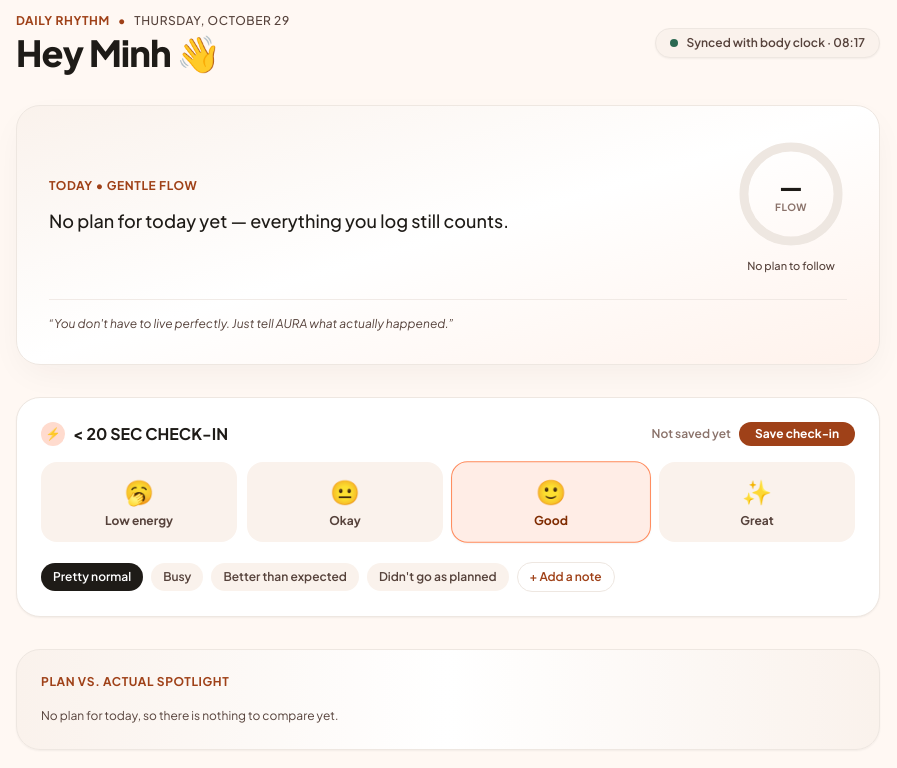
Test: Check-in card › saves the chosen mood, tag and note, then reloads the day
The width and height of the screenshot is (897, 768).
Click the button "🥱 Low energy".
click(139, 502)  # box [41,462,237,542]
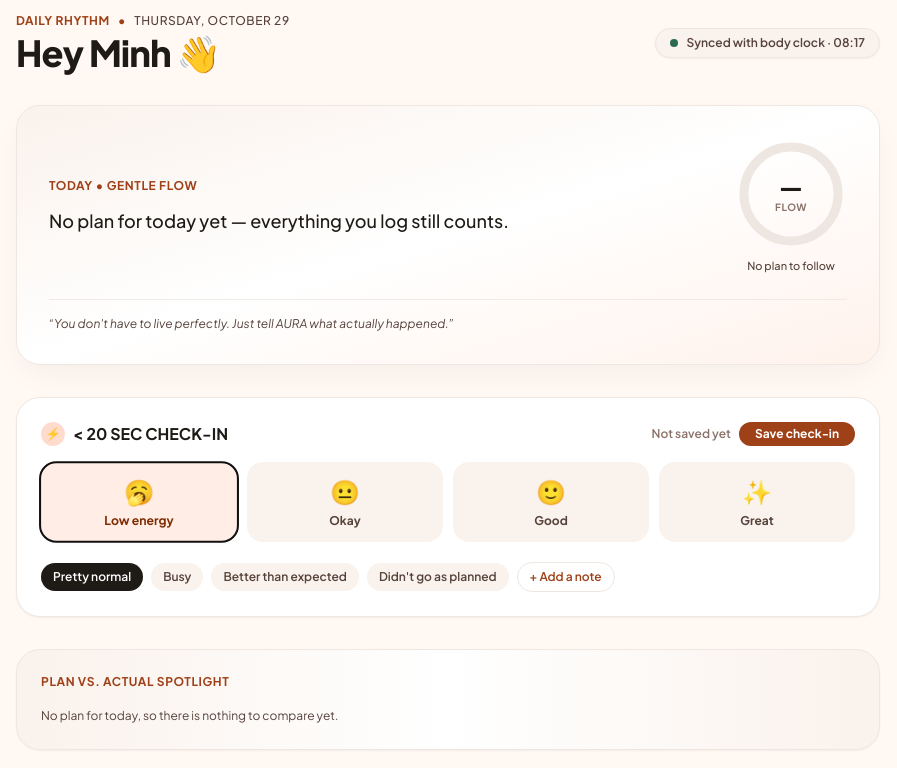
Click the button "Didn't go as planned".
click(438, 576)  # box [367,562,509,590]
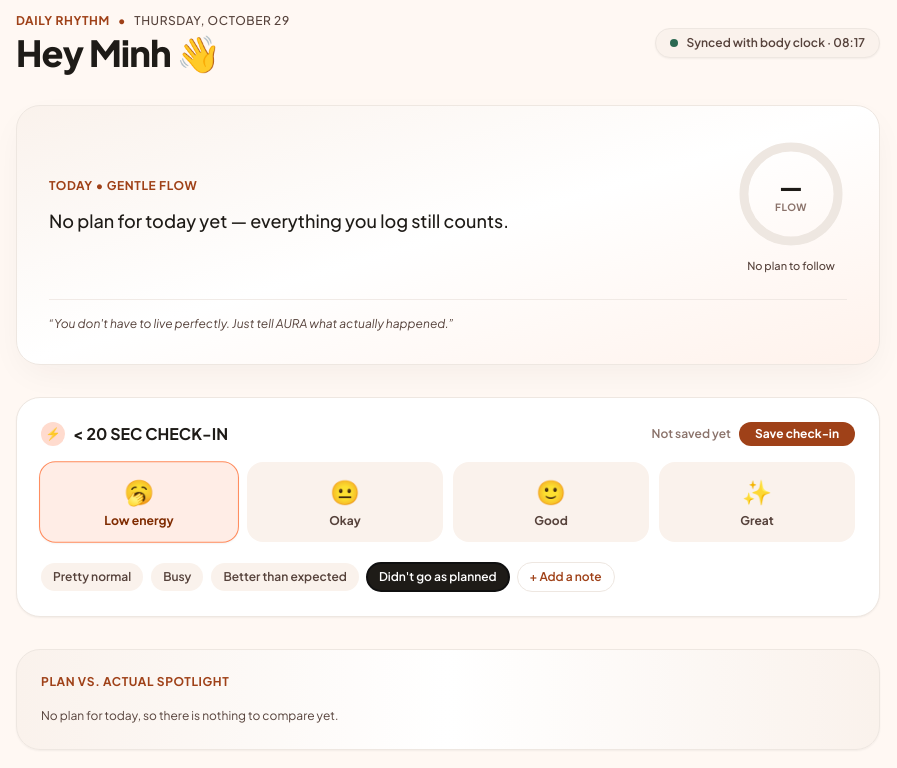
Click the button "+ Add a note".
click(566, 576)  # box [517,562,614,592]
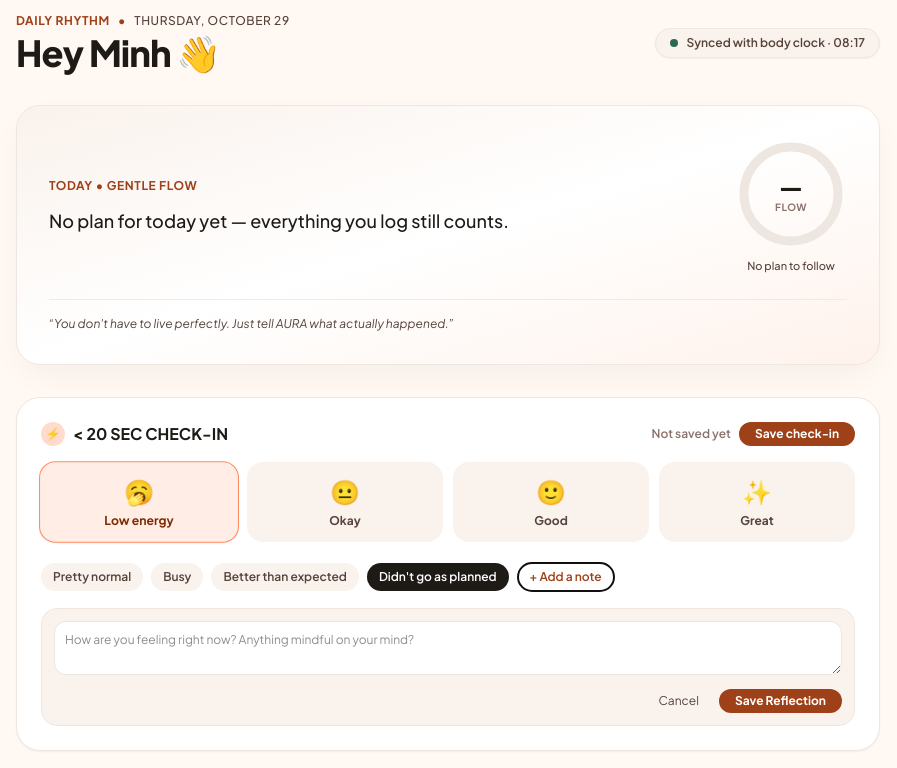
Type "slept badly" into the text box with placeholder "How are you feeling".
click(448, 648); type("slept badly")  # box [54,620,842,674]
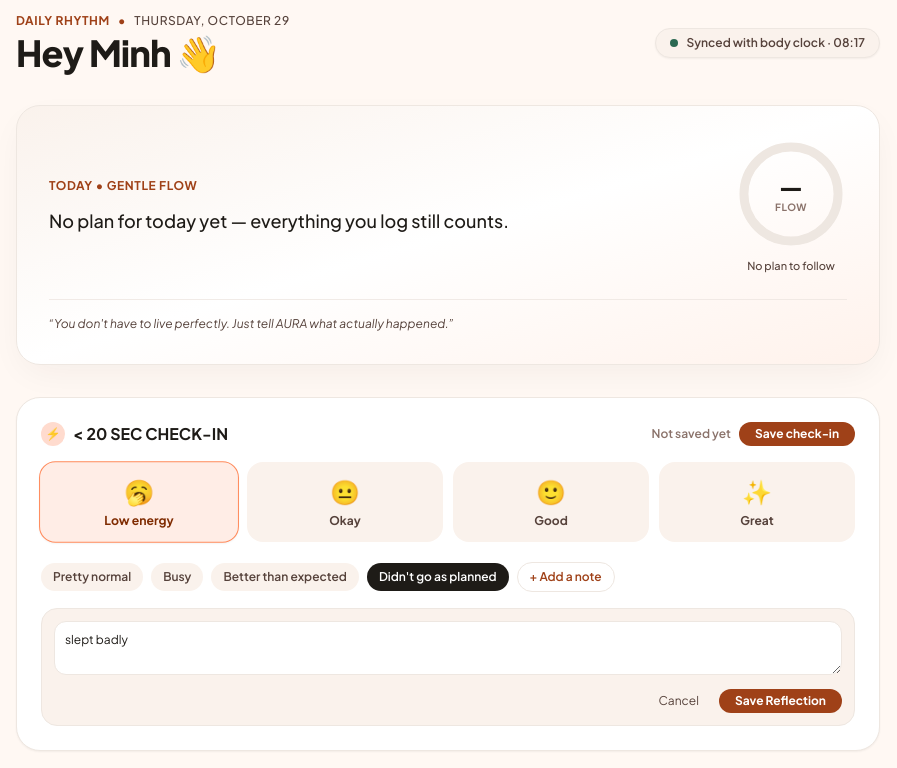
Click the button "Save Reflection".
click(780, 700)  # box [719,688,842,712]
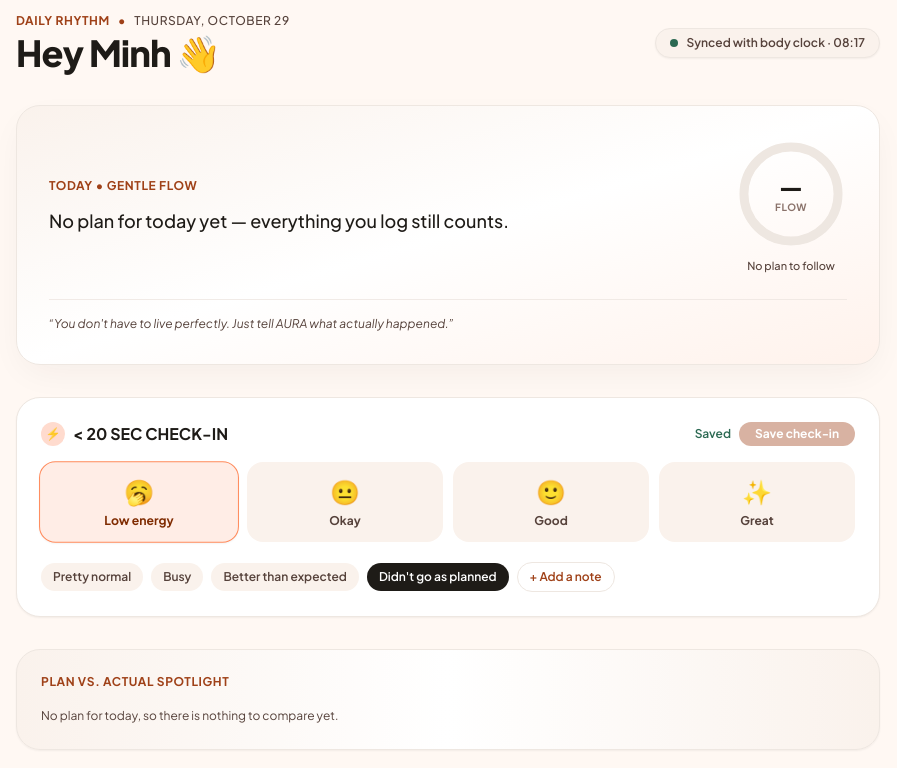
Check: the message reads "Saved", box [695,426,731,440]
